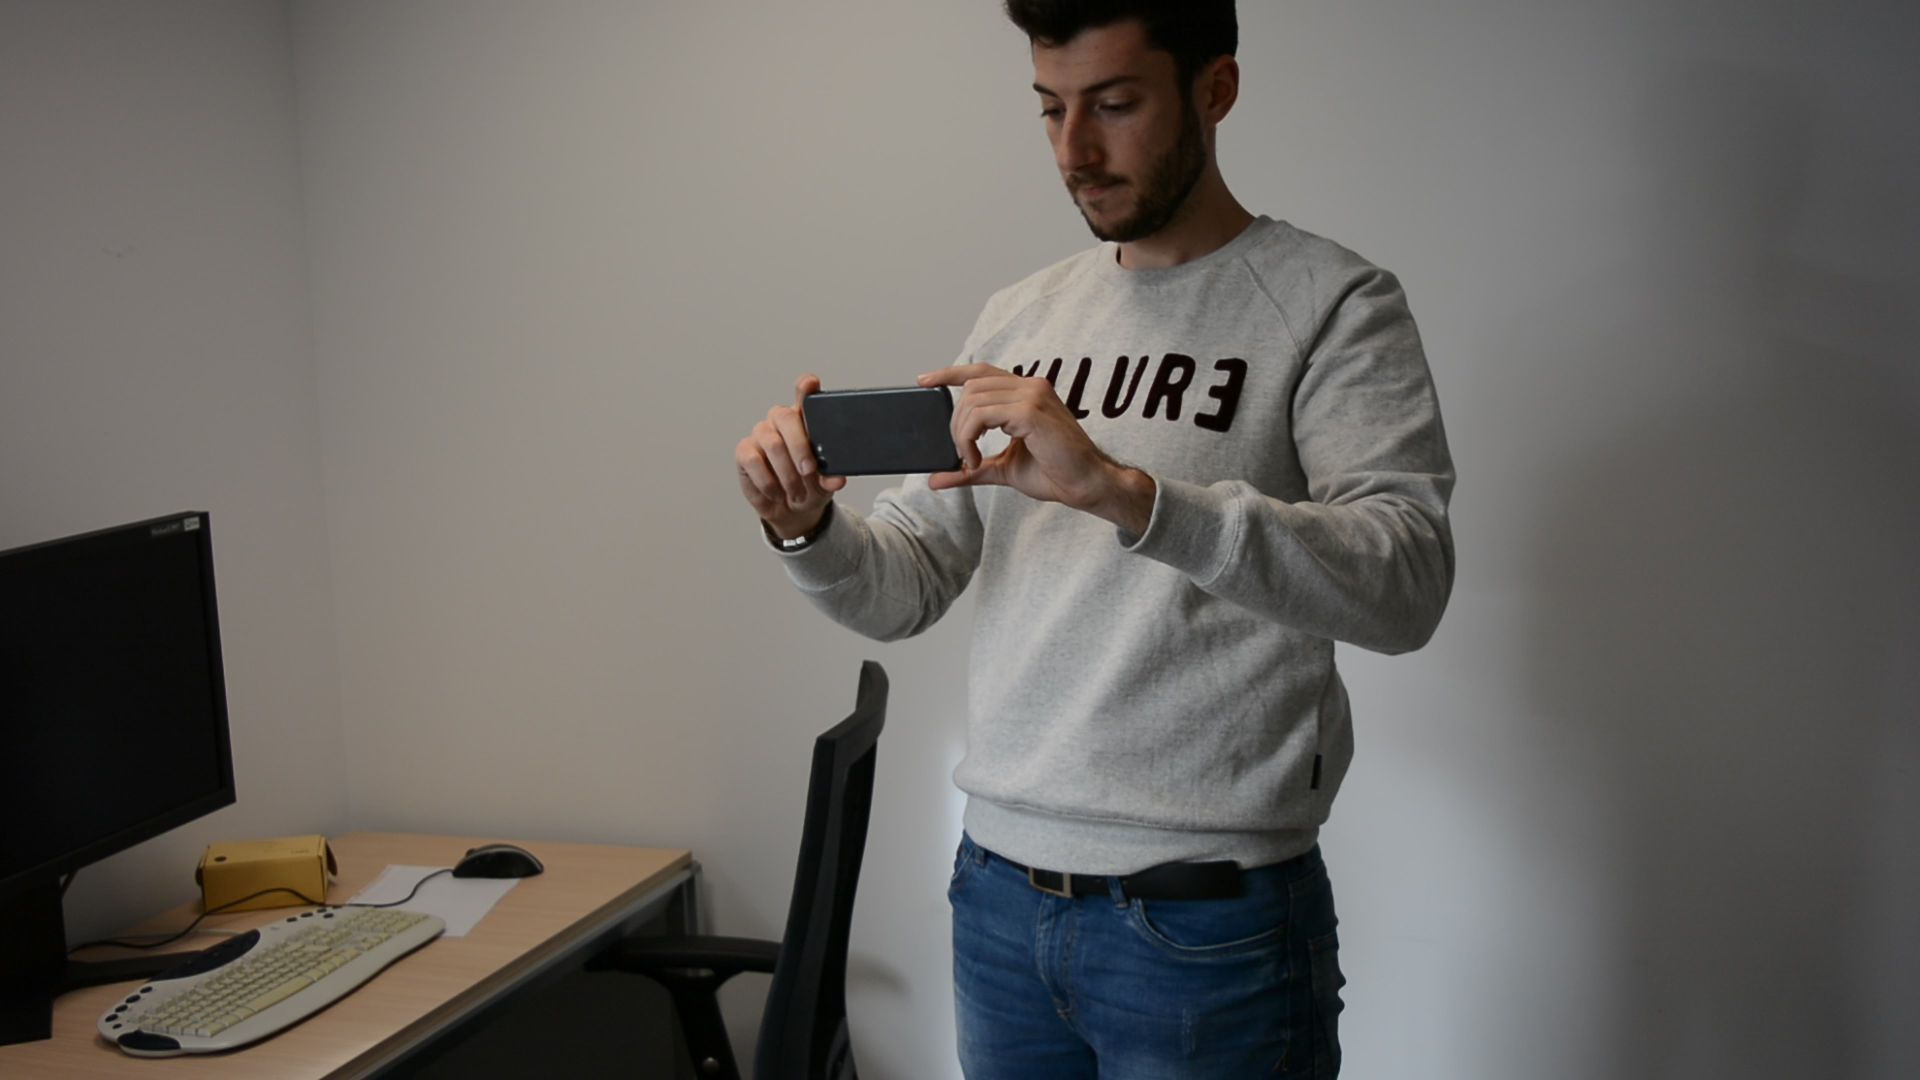smartphone: (800, 382, 965, 479)
